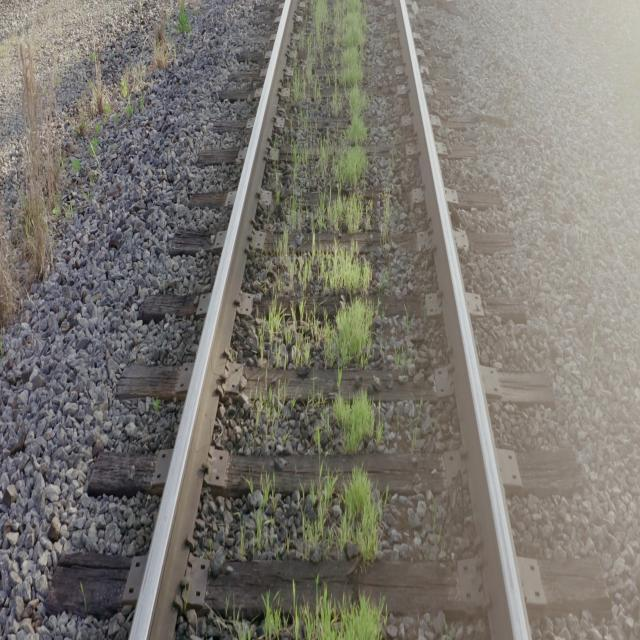Plant: (260, 0, 379, 373), (300, 467, 382, 562), (291, 589, 384, 640), (312, 391, 380, 453), (256, 487, 270, 551), (264, 604, 290, 638), (258, 393, 280, 427)
